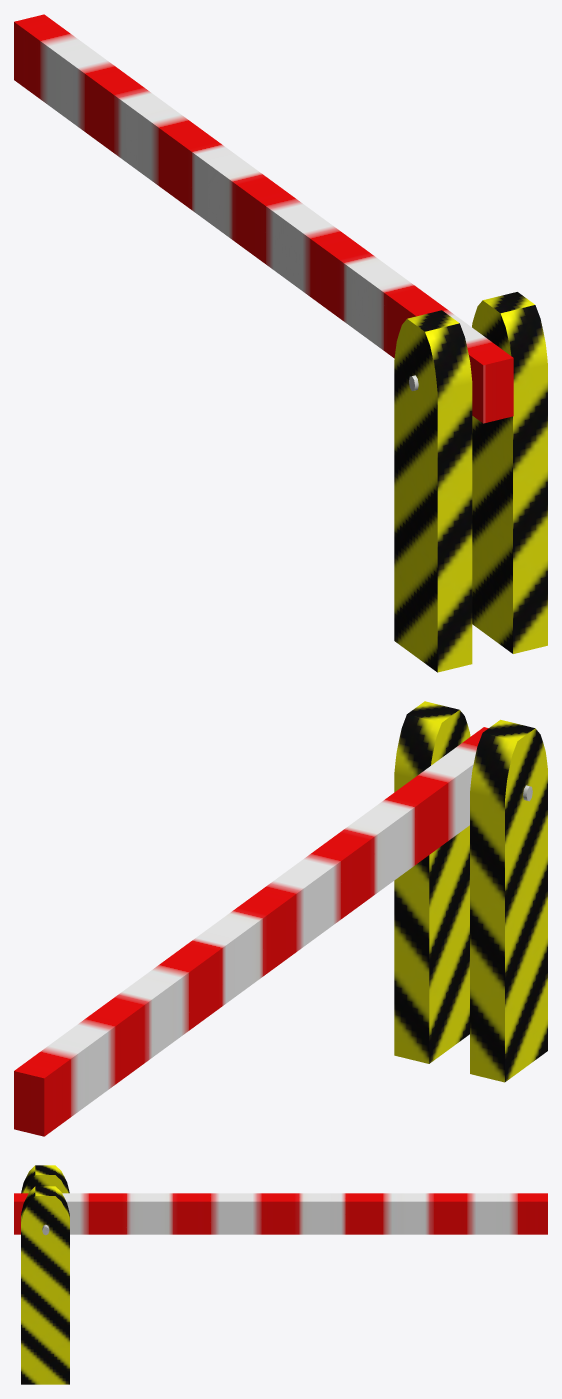
File: road_block_4_moving.fbx
3 views of the same model, one above another, from view 1: azimuth 30°, elevation 25°; view 2: azimuth 150°, elevation 25°; view 3: azimuth 270°, elevation 25° (orthographic). The views are drawn at different scales.
Parts seen in each view (by area): view 1: Cube_001, Cylinder; view 2: Cube_001, Cylinder; view 3: Cylinder, Cube_001.
Part boxes in pixels (x1,y1,x2,y2): Cube_001: [394, 292, 547, 672]; Cylinder: [14, 14, 513, 423]; Cube_001: [394, 701, 547, 1082]; Cylinder: [14, 727, 532, 1136]; Cylinder: [14, 1193, 547, 1235]; Cube_001: [21, 1165, 69, 1384].
Size of the model in its own units: 22.96 by 59.52 by 153.
